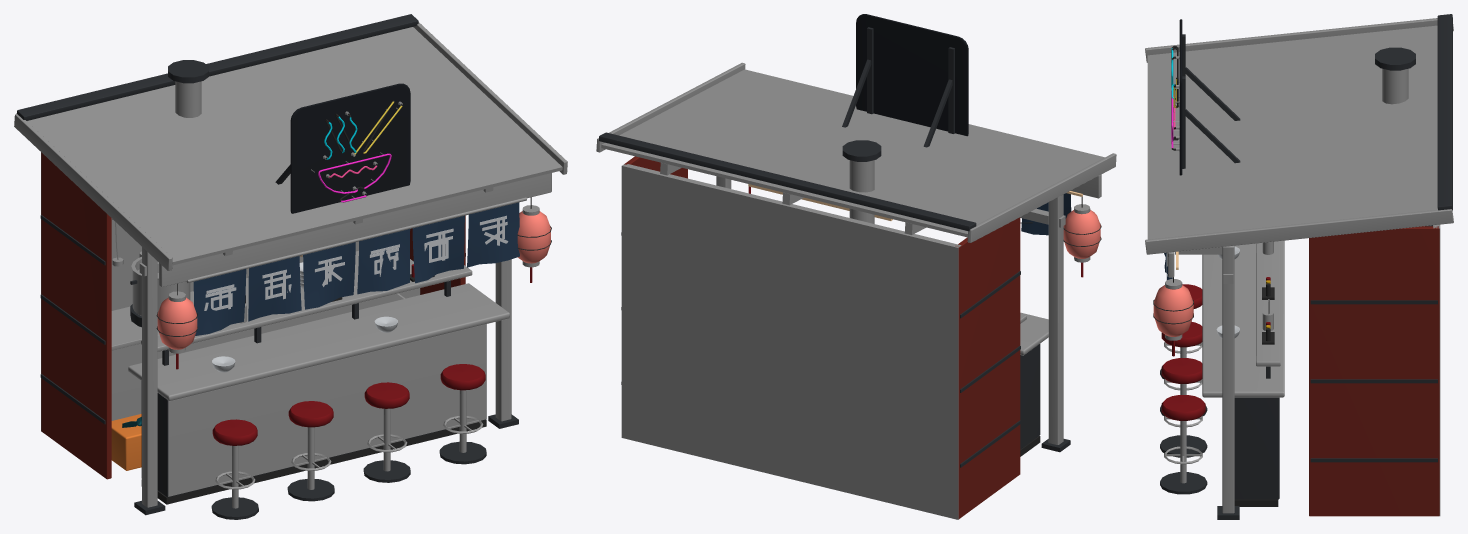
Rendered from Ramen_Stall.fbx.
3 renders of one model, left to right at view 1: azimuth 30°, elevation 25°; view 2: azimuth 150°, elevation 25°; view 3: azimuth 270°, elevation 25°, orthographic. The views are drawn at different scales.
Visible parts, largest first — view 1: Ramen_Stall_LOD0; view 2: Ramen_Stall_LOD0; view 3: Ramen_Stall_LOD0.
Boxes of the visible parts, x1,y1,x2,y2 form: Ramen_Stall_LOD0: (14, 14, 567, 519); Ramen_Stall_LOD0: (596, 14, 1116, 519); Ramen_Stall_LOD0: (1145, 14, 1453, 519).
Size of what is drawn, in the model's own units: 3.68 by 3.41 by 2.48.
